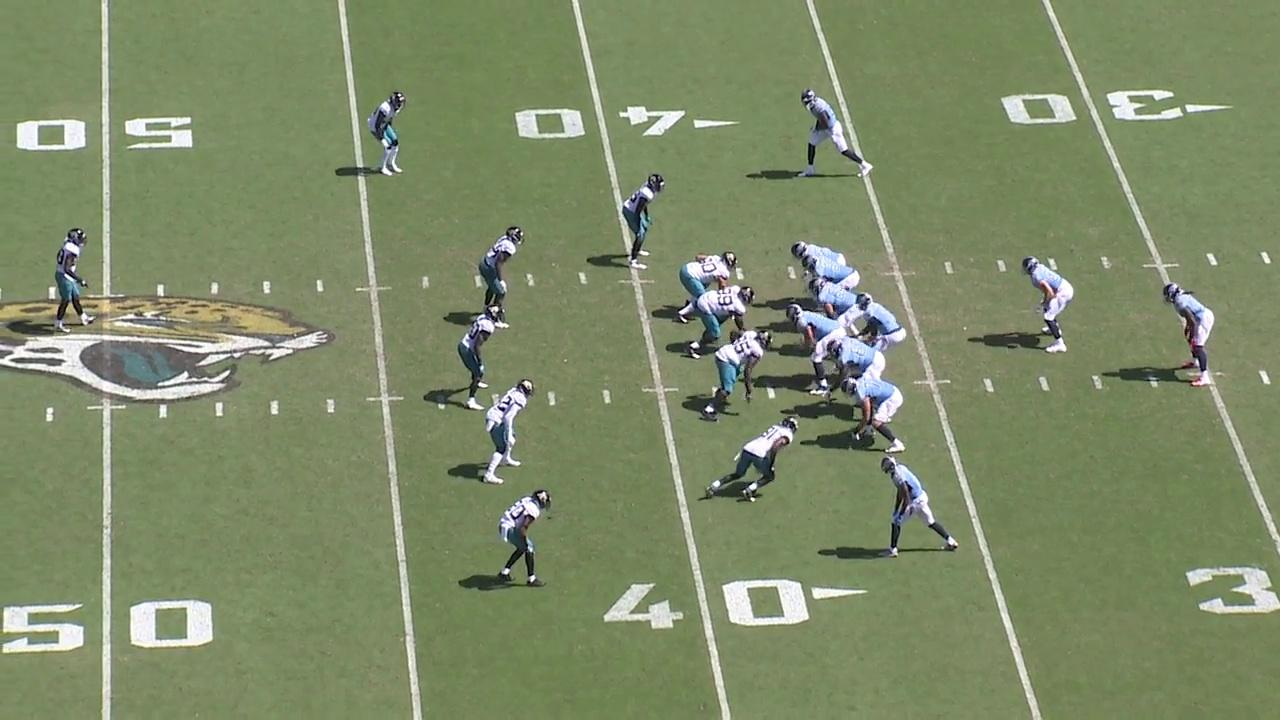player: (874, 454, 965, 560), (701, 412, 802, 502), (790, 86, 876, 180), (698, 326, 775, 423), (478, 371, 537, 485), (1161, 278, 1220, 390), (494, 487, 553, 593), (1019, 247, 1071, 361), (611, 169, 666, 273), (46, 218, 94, 333), (788, 304, 847, 397), (682, 281, 756, 352), (842, 376, 904, 455), (364, 84, 415, 178), (674, 250, 739, 321), (480, 225, 524, 329), (463, 304, 500, 412), (851, 292, 901, 350), (826, 335, 887, 378), (806, 278, 857, 322), (802, 255, 860, 289), (784, 237, 851, 263)
